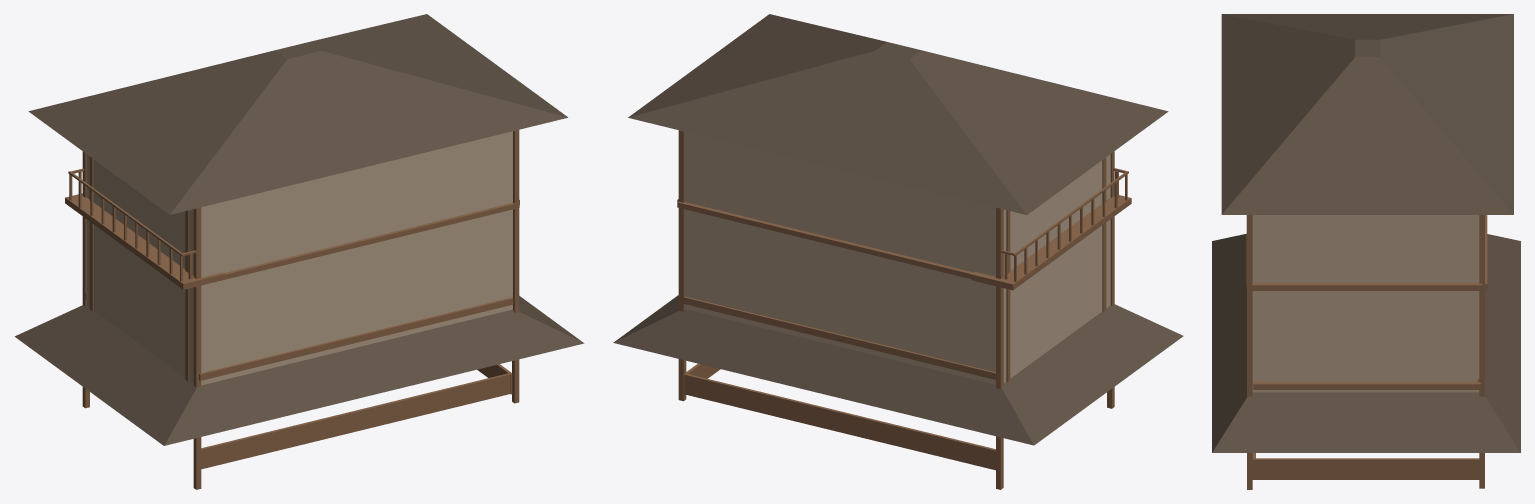
The model's file is house.fbx.
3 views of the same model, side by side, from view 1: azimuth 30°, elevation 25°; view 2: azimuth 150°, elevation 25°; view 3: azimuth 270°, elevation 25° (orthographic). The views are drawn at different scales.
Parts seen in each view (by area): view 1: pCube98, pCube97, pCube130, pCube100, pCube101, pCube102, pCube109, pCube122, pCube111; view 2: pCube98, pCube97, pCube132, pCube123, pCube101, pCube104, pCube111, pCube113, pCube109; view 3: pCube98, pCube97, pCube131, pCube118, pCube129, pCube122, pCube113.
Boxes of the visible parts, x1,y1,x2,y2 form: pCube98: (14, 131, 584, 445); pCube97: (28, 14, 567, 214); pCube130: (201, 373, 511, 469); pCube100: (199, 297, 513, 380); pCube101: (65, 193, 224, 289); pCube102: (224, 202, 519, 279); pCube109: (193, 207, 201, 489); pCube122: (512, 130, 519, 403); pCube111: (82, 151, 89, 408); pCube98: (613, 132, 1183, 445); pCube97: (628, 14, 1168, 214); pCube132: (684, 373, 995, 470); pCube123: (682, 296, 1000, 380); pCube101: (971, 195, 1131, 290); pCube104: (677, 201, 973, 279); pCube111: (996, 207, 1003, 489); pCube113: (678, 130, 686, 401); pCube109: (1107, 151, 1114, 408); pCube98: (1212, 215, 1520, 452); pCube97: (1221, 14, 1513, 214); pCube131: (1252, 458, 1479, 479); pCube118: (1252, 282, 1482, 290); pCube129: (1253, 381, 1480, 389); pCube122: (1247, 215, 1252, 489); pCube113: (1479, 215, 1484, 488).
Bounding box in the file's own units: 152 × 124 × 93.44.
